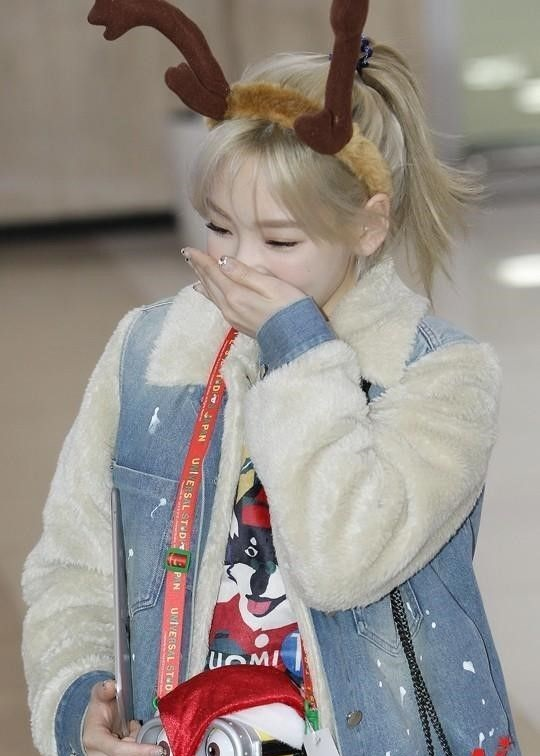face: (198, 150, 343, 351)
